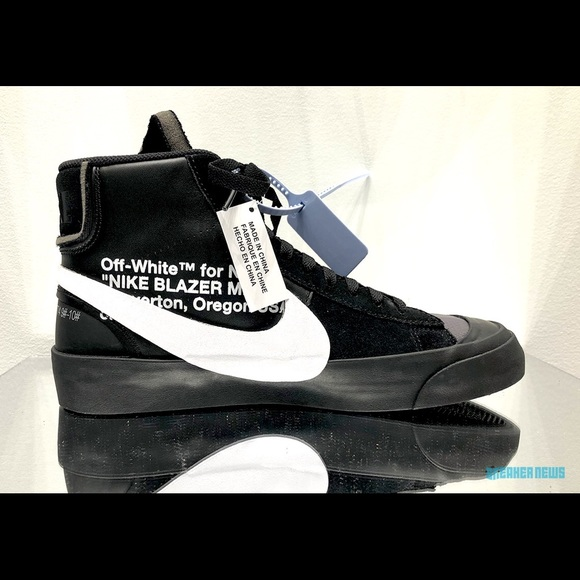Nike Blazer Grim Reaper: (43, 107, 548, 424)
